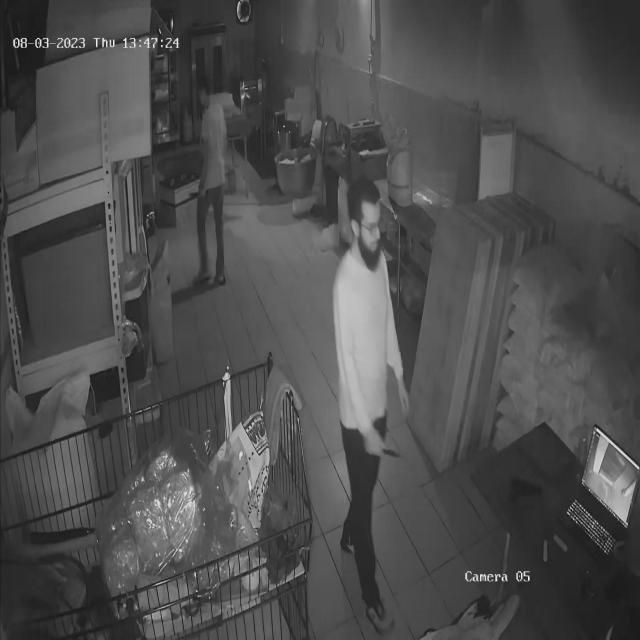Knife: (363, 432, 406, 466)
